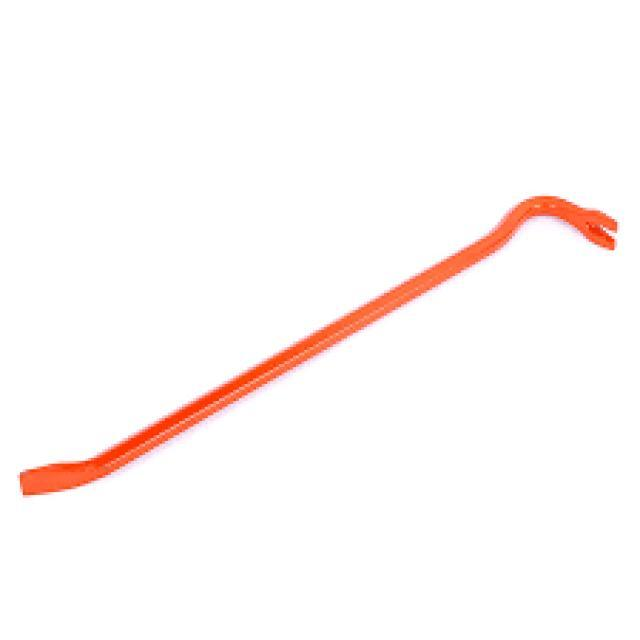Linggis: (19, 186, 617, 502)
